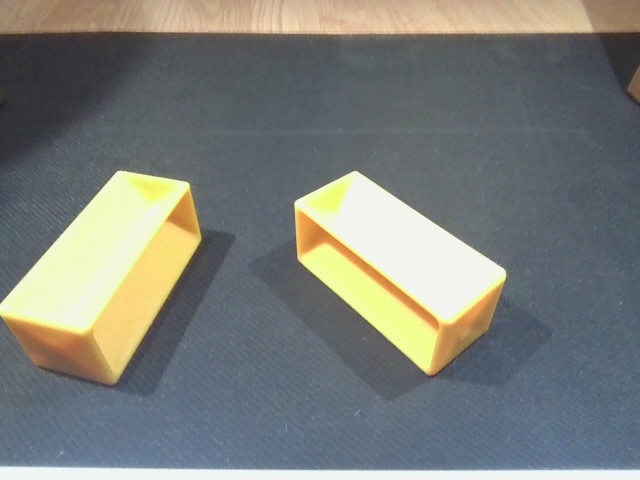YellowSample: (1, 166, 206, 405), (292, 166, 511, 385)
